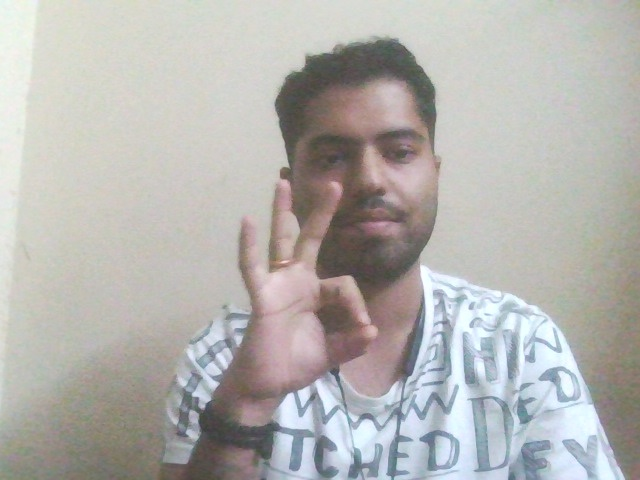Yes: (200, 171, 401, 388)
